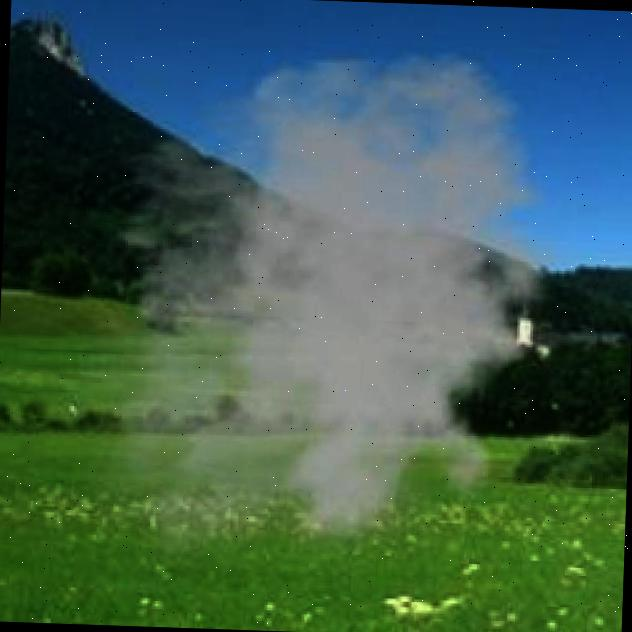smoke: (40, 36, 593, 596)
